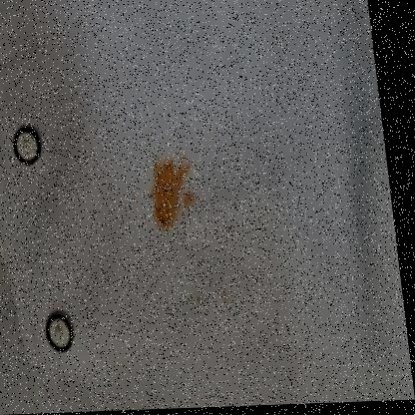kimchi: (142, 155, 210, 238)
